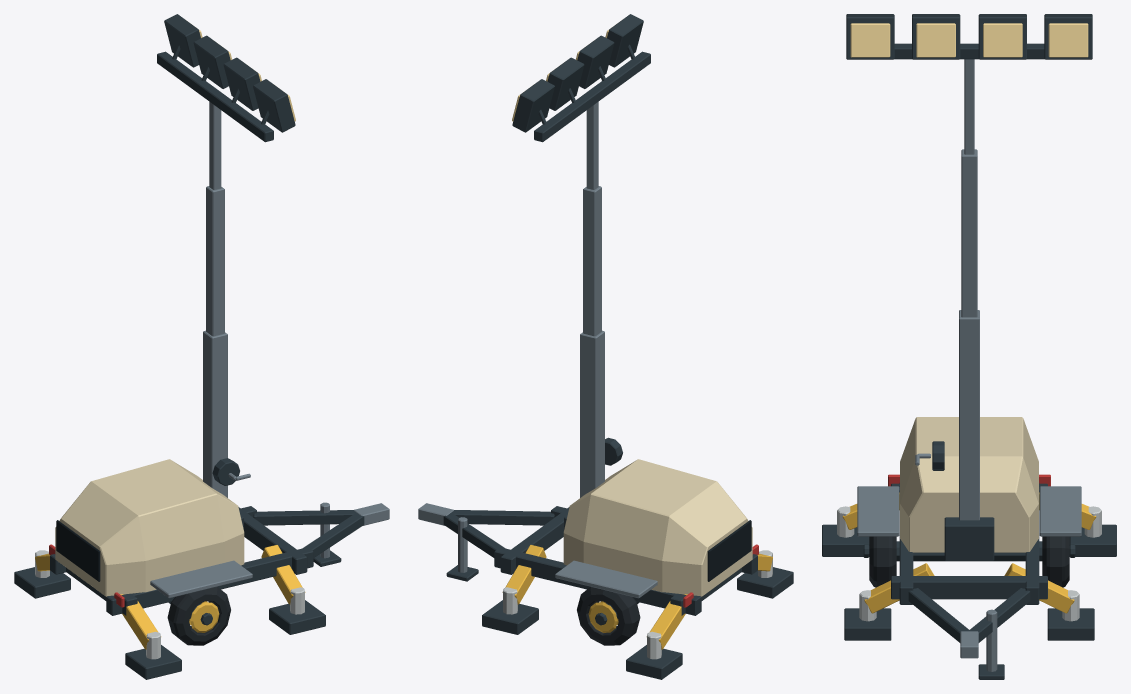
File: b07_portable_light_tower_trailer.glb
The picture shows the model from 3 angles, left to right: view 1: azimuth 30°, elevation 25°; view 2: azimuth 150°, elevation 25°; view 3: azimuth 270°, elevation 25°; orthographic projection. The views are drawn at different scales.
Visible parts, largest first — view 1: b07_portable_light_tower_trailer; view 2: b07_portable_light_tower_trailer; view 3: b07_portable_light_tower_trailer.
Part boxes in pixels (x1=…): b07_portable_light_tower_trailer: x1=14, y1=14, x2=389, y2=679; b07_portable_light_tower_trailer: x1=418, y1=14, x2=793, y2=679; b07_portable_light_tower_trailer: x1=822, y1=14, x2=1116, y2=679.
Size of the model in its own units: 3.21 by 5.41 by 2.38.
